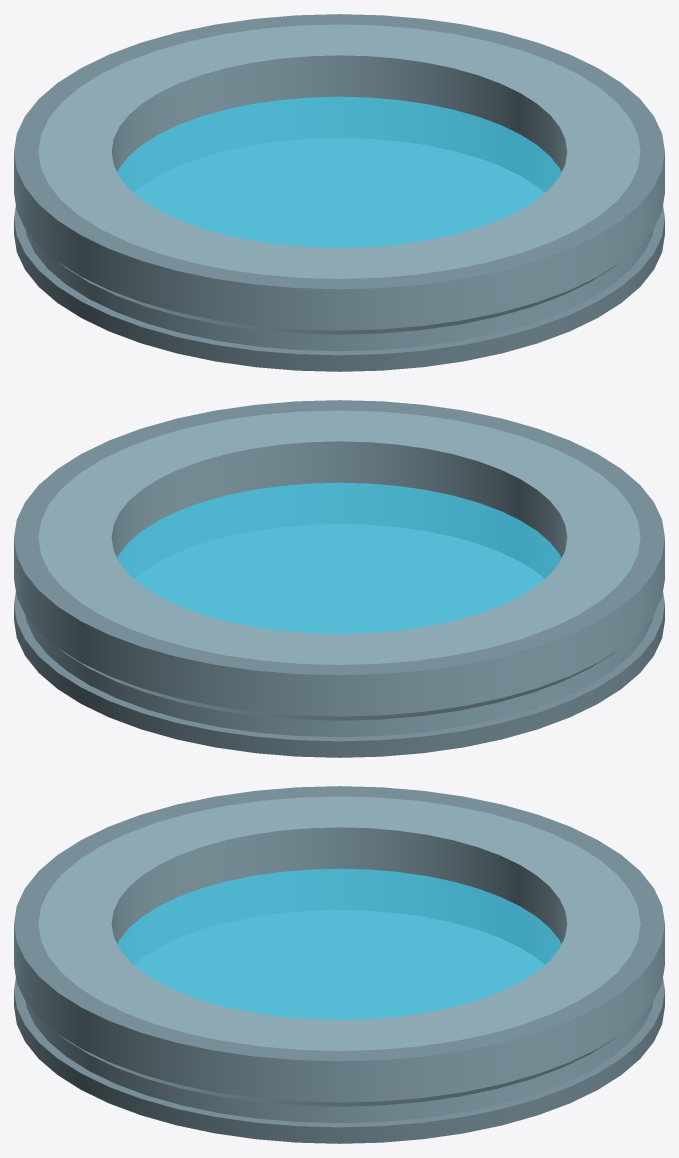
File: fountainRound.fbx
3 renders of one model, top to bottom at view 1: azimuth 30°, elevation 25°; view 2: azimuth 150°, elevation 25°; view 3: azimuth 270°, elevation 25°, orthographic.
Visible parts, largest first — view 1: fountainRound; view 2: fountainRound; view 3: fountainRound.
Boxes of the visible parts, <box> form: fountainRound: <box>14,14,664,371</box>; fountainRound: <box>14,400,664,757</box>; fountainRound: <box>14,786,664,1143</box>.
Size of the model in its own units: 20 by 2.8 by 20.
